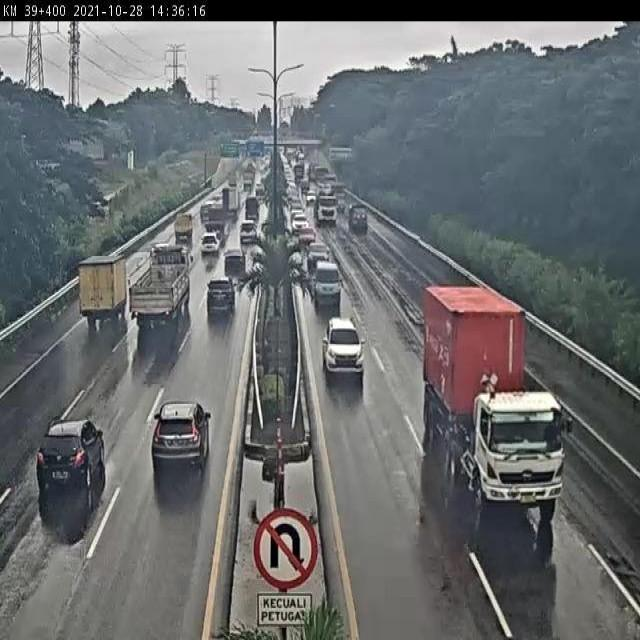big truck: (424, 282, 564, 522), (122, 247, 189, 337)
car: (36, 418, 106, 493), (151, 400, 209, 476), (323, 312, 365, 379), (203, 273, 236, 320), (312, 263, 344, 309), (221, 247, 249, 276), (307, 241, 331, 271), (234, 220, 258, 249), (198, 231, 223, 257), (297, 223, 317, 248)
small truck: (77, 256, 129, 329), (173, 209, 196, 240)
